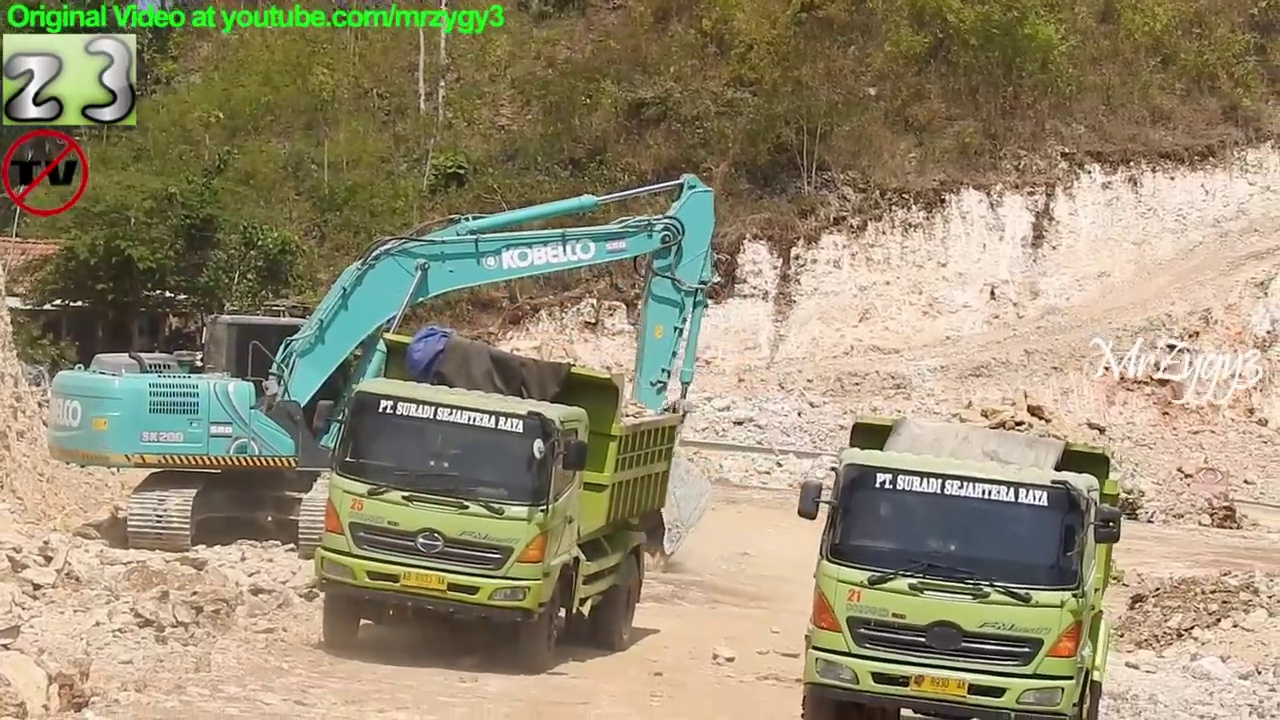excavator: (38, 165, 723, 567)
truck: (307, 324, 686, 681), (793, 412, 1131, 720)
